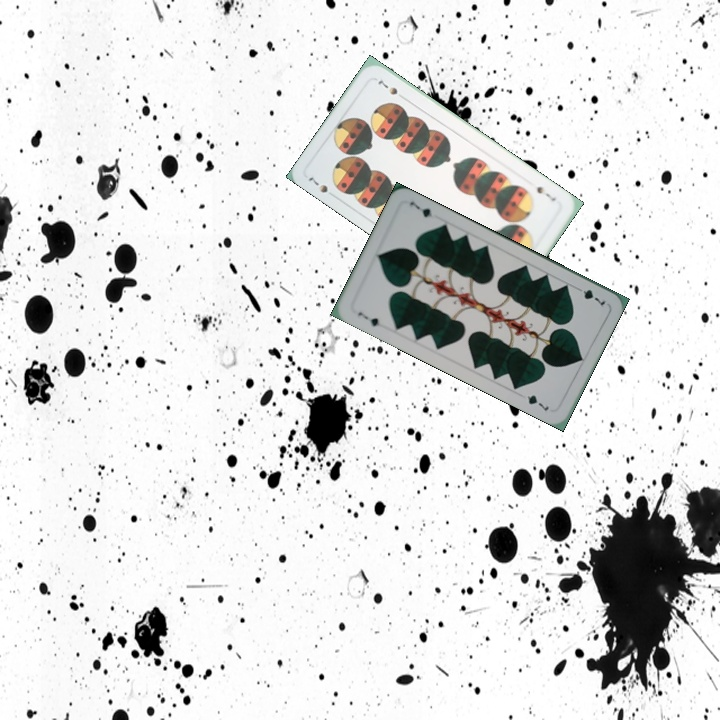G7: (571, 283, 608, 308), (354, 307, 382, 329)
S7: (304, 171, 339, 200), (532, 182, 559, 204)
